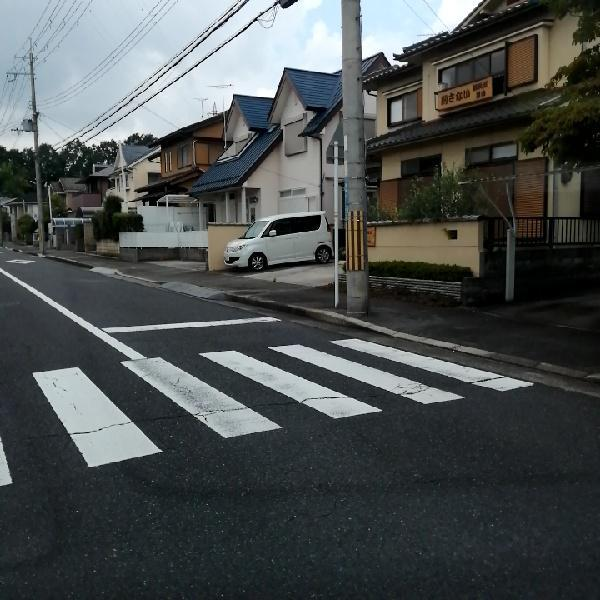D10: (207, 378, 527, 421), (4, 397, 199, 437)
